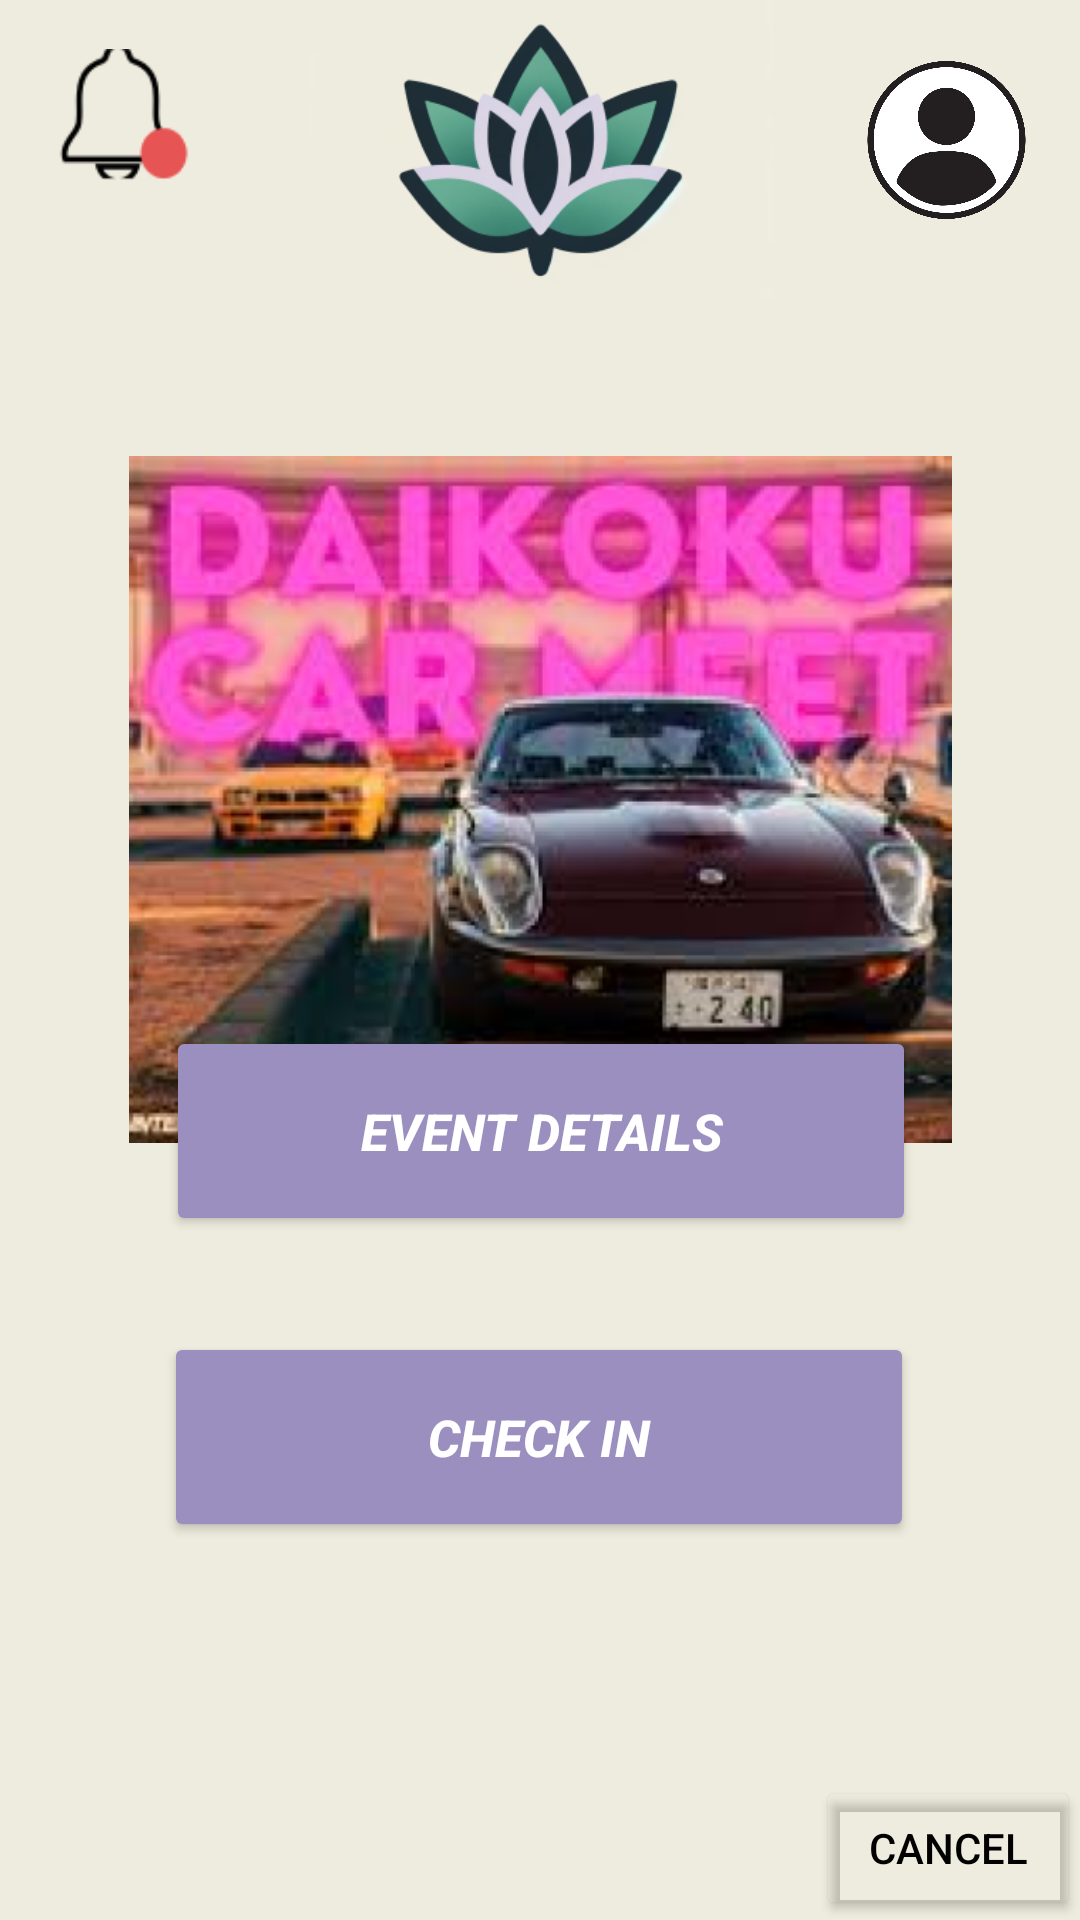

Where to tap for icons on this 1080 x 1920 app screen, as point (x, y):
notifbell: point (124, 114)
